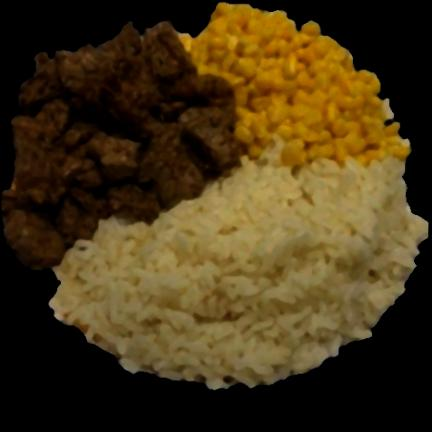corn: (181, 1, 415, 164)
meat: (0, 21, 244, 266)
rice: (50, 156, 423, 386)
